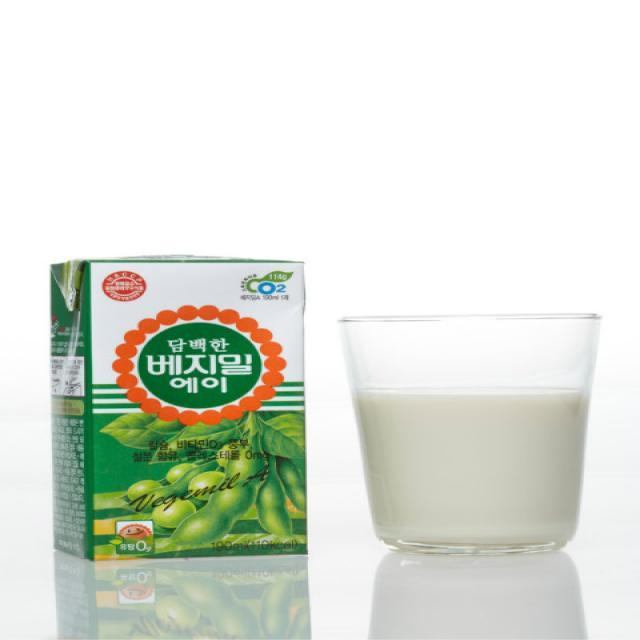Tetra: (44, 242, 320, 566)
